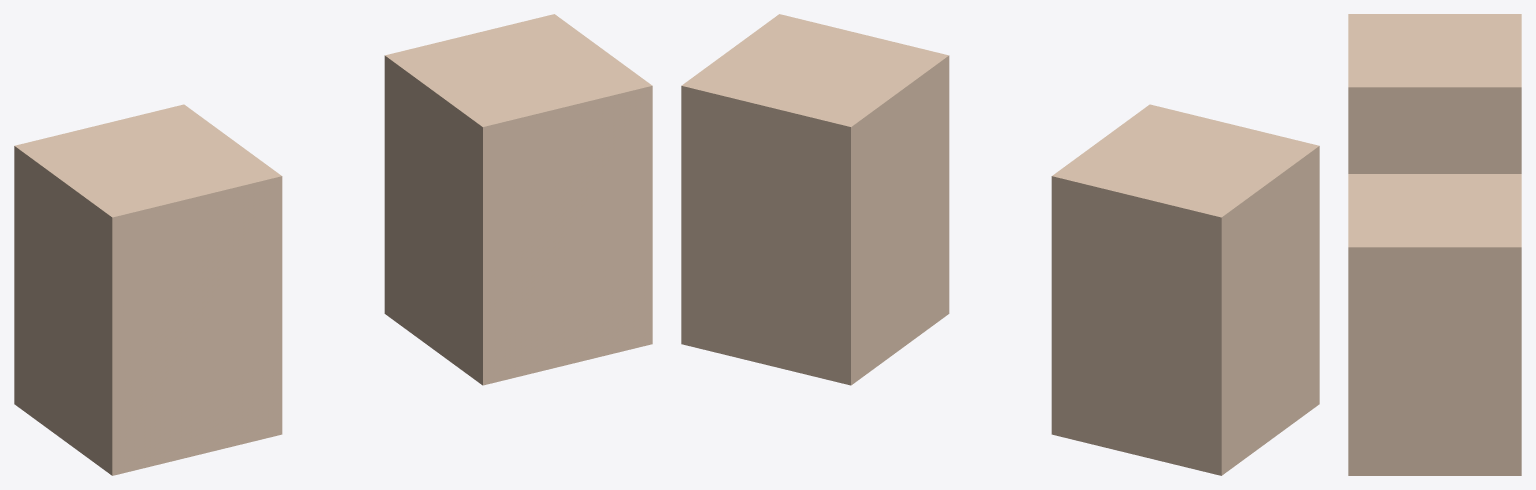
The model's file is DebugHands.gltf.
The picture shows the model from 3 angles, left to right: view 1: azimuth 30°, elevation 25°; view 2: azimuth 150°, elevation 25°; view 3: azimuth 270°, elevation 25°; orthographic projection. The views are drawn at different scales.
Parts seen in each view (by area): view 1: DebugHandsRoot; view 2: DebugHandsRoot; view 3: DebugHandsRoot.
Boxes of the visible parts, x1=… form: DebugHandsRoot: x1=14, y1=14, x2=652, y2=475; DebugHandsRoot: x1=681, y1=14, x2=1319, y2=475; DebugHandsRoot: x1=1348, y1=14, x2=1521, y2=475.
Bounding box in the file's own units: 0.7 × 0.32 × 0.22.
